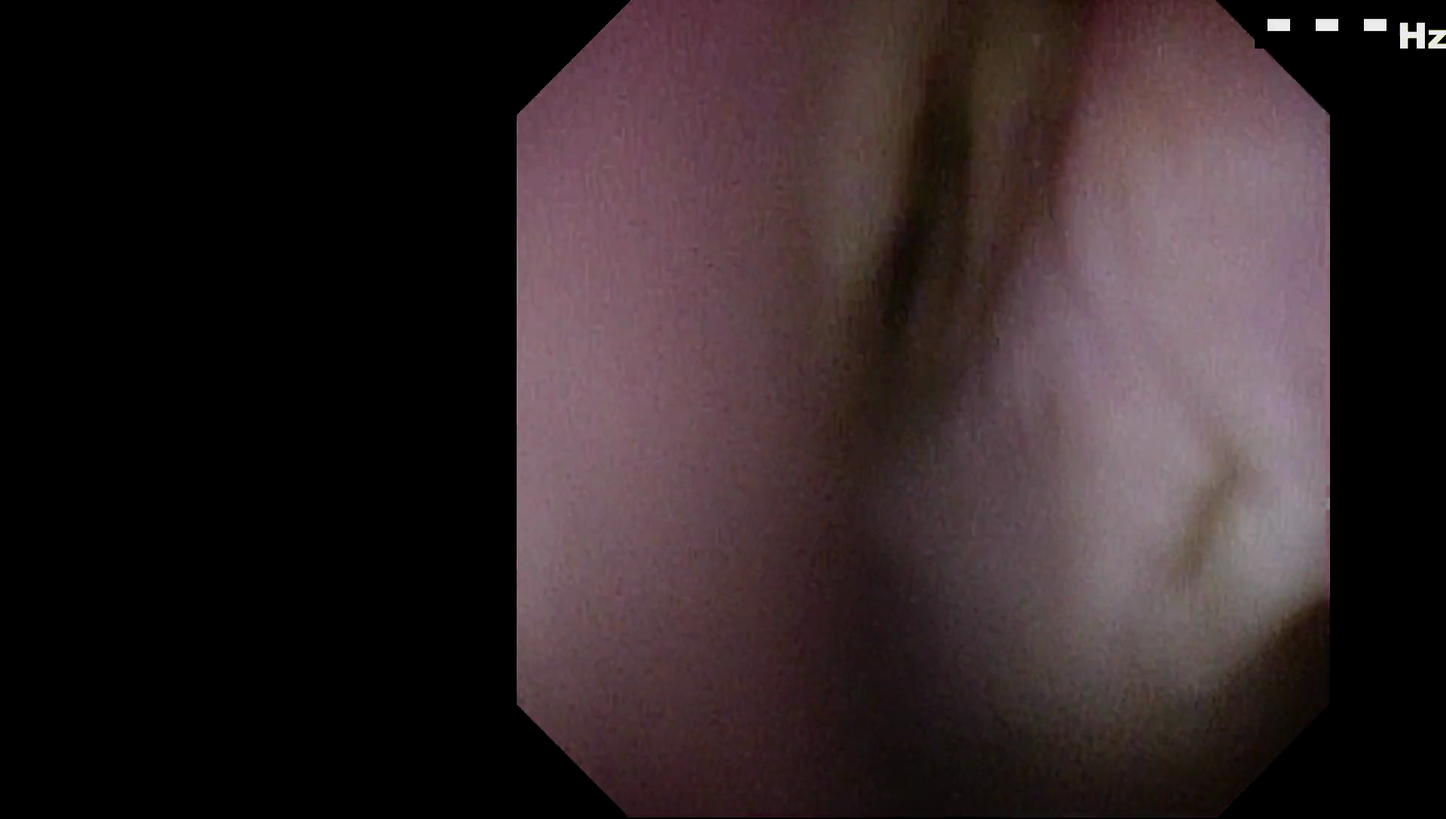close_wall: (521, 62, 772, 702), (1107, 23, 1326, 583)
next: (818, 37, 1013, 409), (806, 495, 970, 819)
